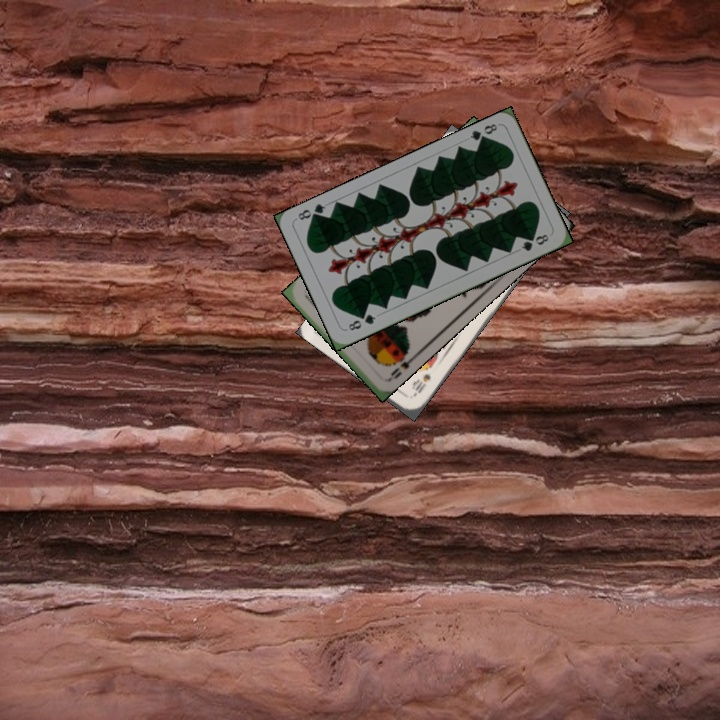G8: (466, 119, 501, 147), (344, 310, 379, 333)
S10: (409, 369, 434, 399)
SO: (382, 347, 417, 384)
